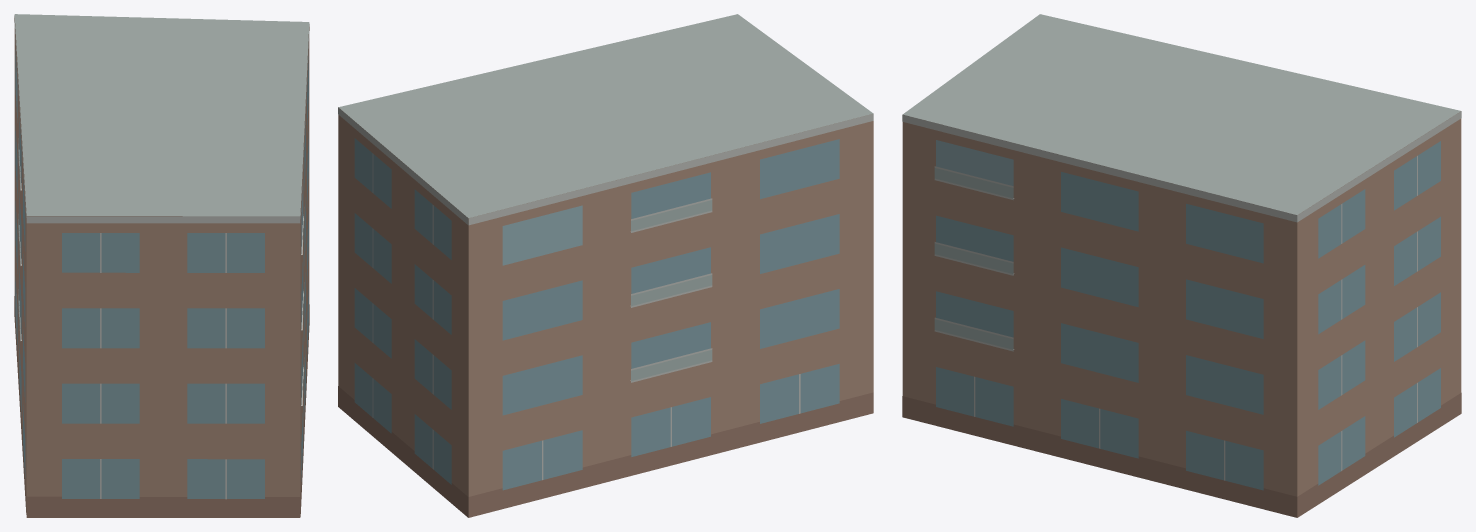
File: survey-upis-32723037.glb
3 renders of one model, left to right at view 1: azimuth 30°, elevation 25°; view 2: azimuth 150°, elevation 25°; view 3: azimuth 270°, elevation 25°, orthographic.
Visible parts, largest first — view 1: survey-upis-32723037.tmp; view 2: survey-upis-32723037.tmp; view 3: survey-upis-32723037.tmp.
Boxes of the visible parts, bbox=[...] form: survey-upis-32723037.tmp: bbox=[14, 14, 309, 517]; survey-upis-32723037.tmp: bbox=[338, 14, 873, 517]; survey-upis-32723037.tmp: bbox=[902, 14, 1461, 517].
Bounding box in the file's own units: 14.48 × 10.15 × 17.
